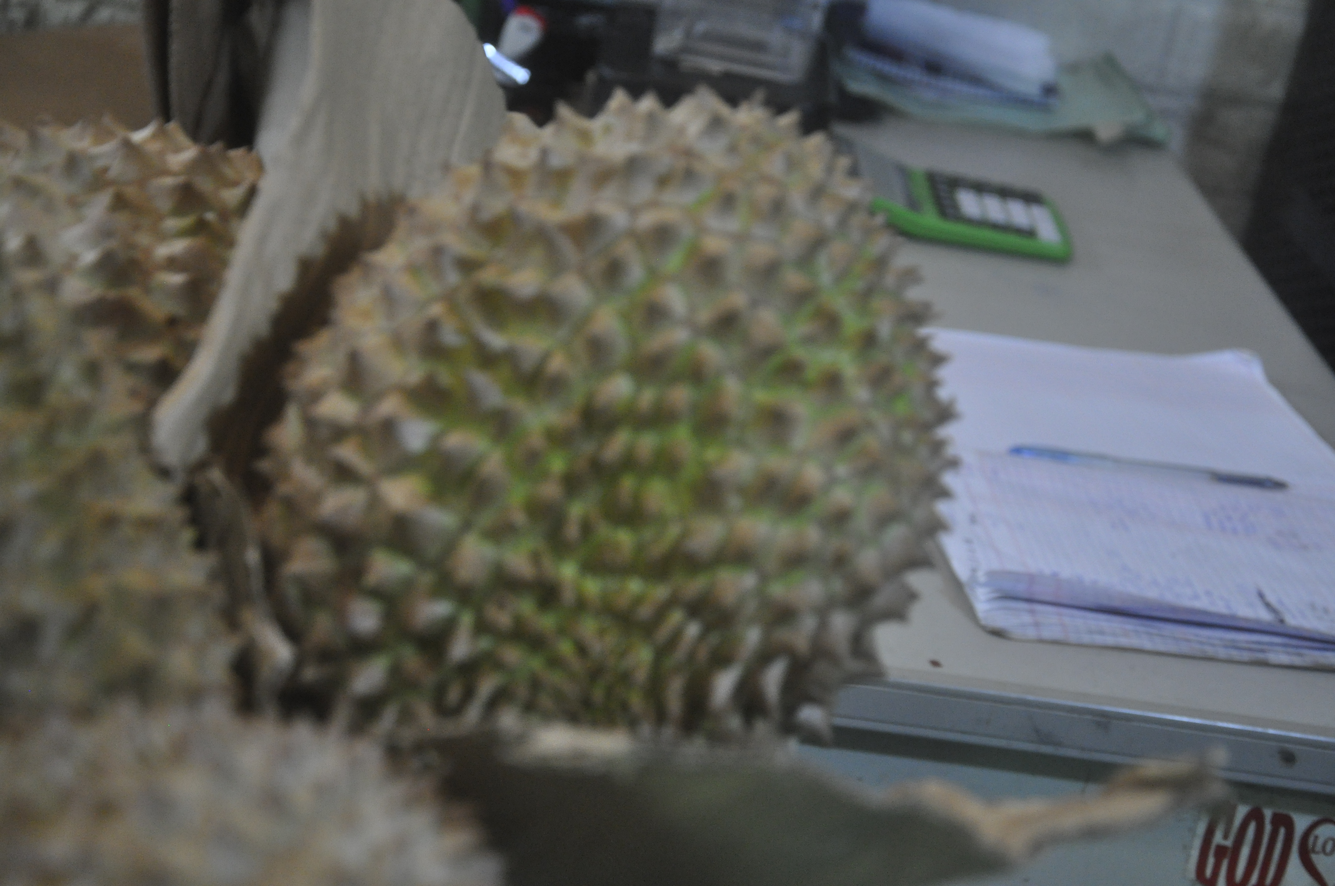mature: (243, 83, 968, 766)
